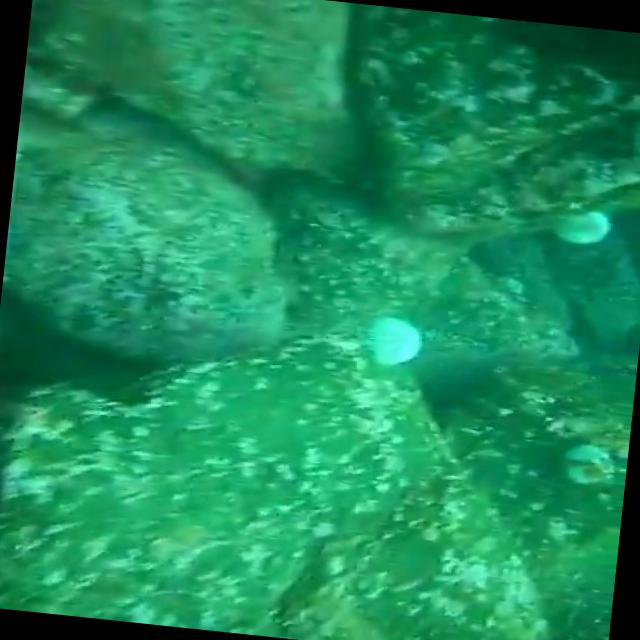Deniz Kestanesi: (356, 308, 430, 372), (552, 196, 616, 248)
